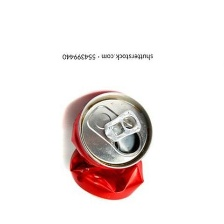can: (61, 89, 156, 203)
